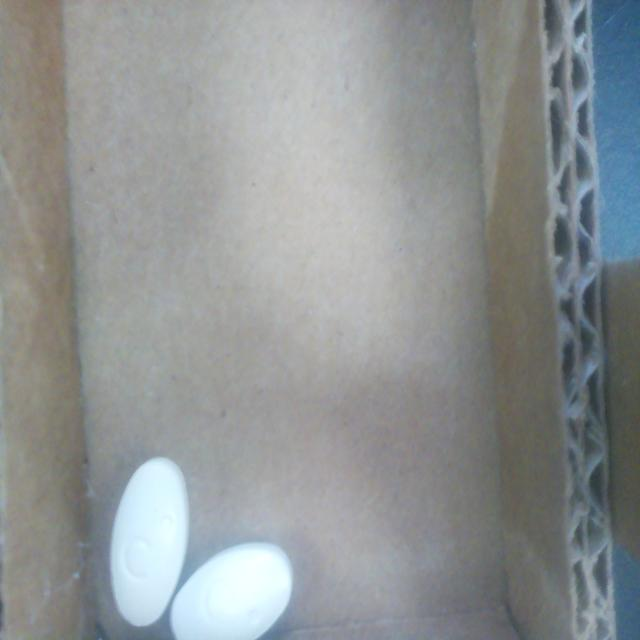pill: (108, 456, 190, 628), (170, 540, 294, 640)
